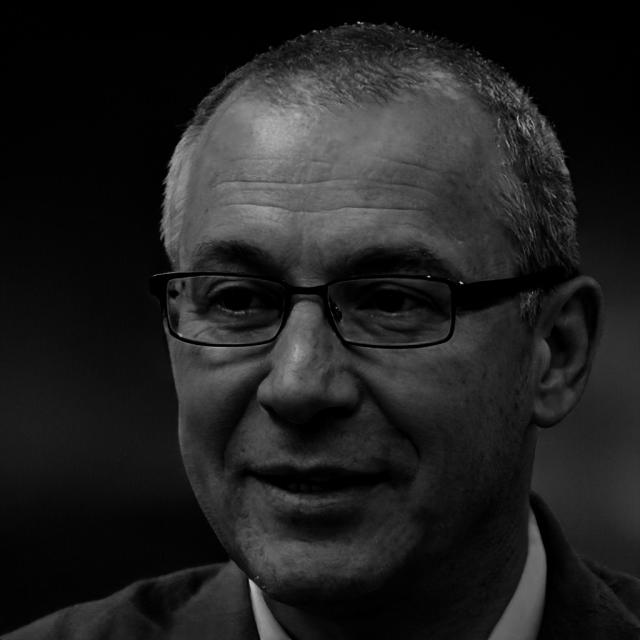lens: (328, 276, 452, 348), (166, 276, 286, 344)
